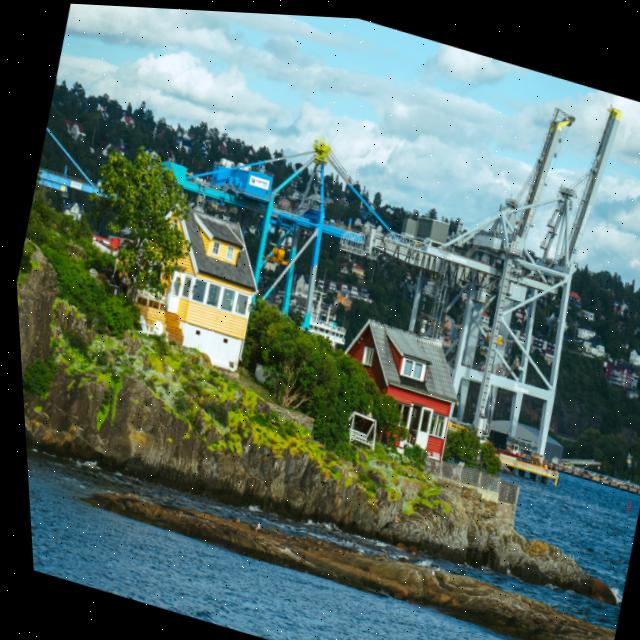building: (133, 199, 276, 373), (318, 308, 471, 466)
